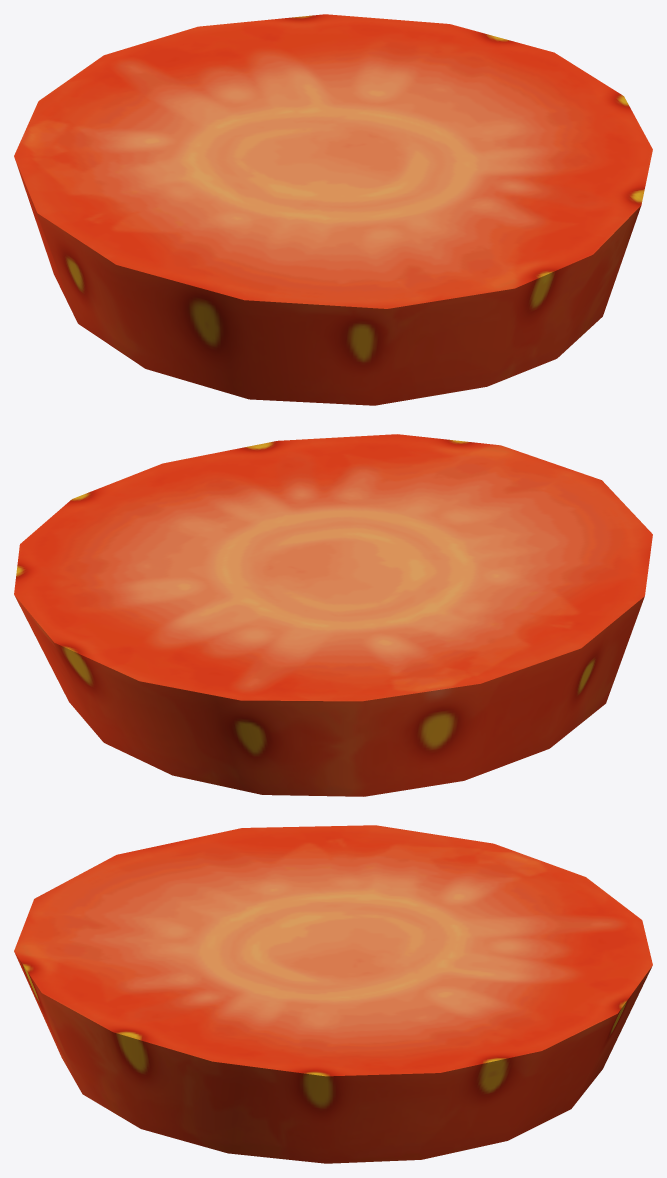
File: SM_StrawberrySliceB.fbx
3 renders of one model, top to bottom at view 1: azimuth 30°, elevation 25°; view 2: azimuth 150°, elevation 25°; view 3: azimuth 270°, elevation 25°, orthographic. The views are drawn at different scales.
Parts seen in each view (by area): view 1: SM_StrawberrySliceB; view 2: SM_StrawberrySliceB; view 3: SM_StrawberrySliceB.
Boxes of the visible parts, x1=… form: SM_StrawberrySliceB: x1=14, y1=14, x2=652, y2=405; SM_StrawberrySliceB: x1=14, y1=434, x2=652, y2=796; SM_StrawberrySliceB: x1=14, y1=825, x2=652, y2=1163.
Bounding box in the file's own units: 6.88 × 1.37 × 7.39.
